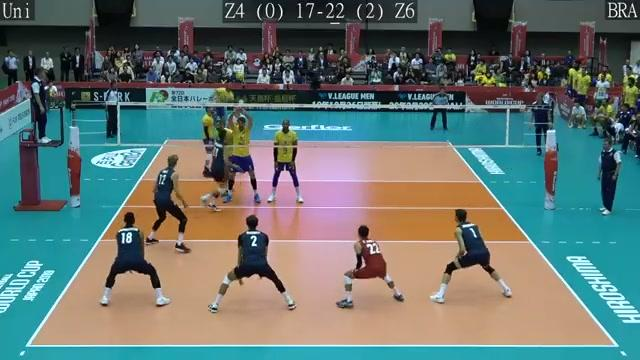ball: (234, 69, 245, 82)
